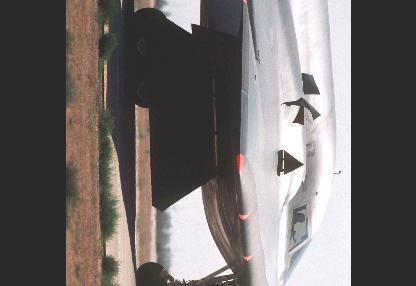B1: (130, 0, 342, 285)
